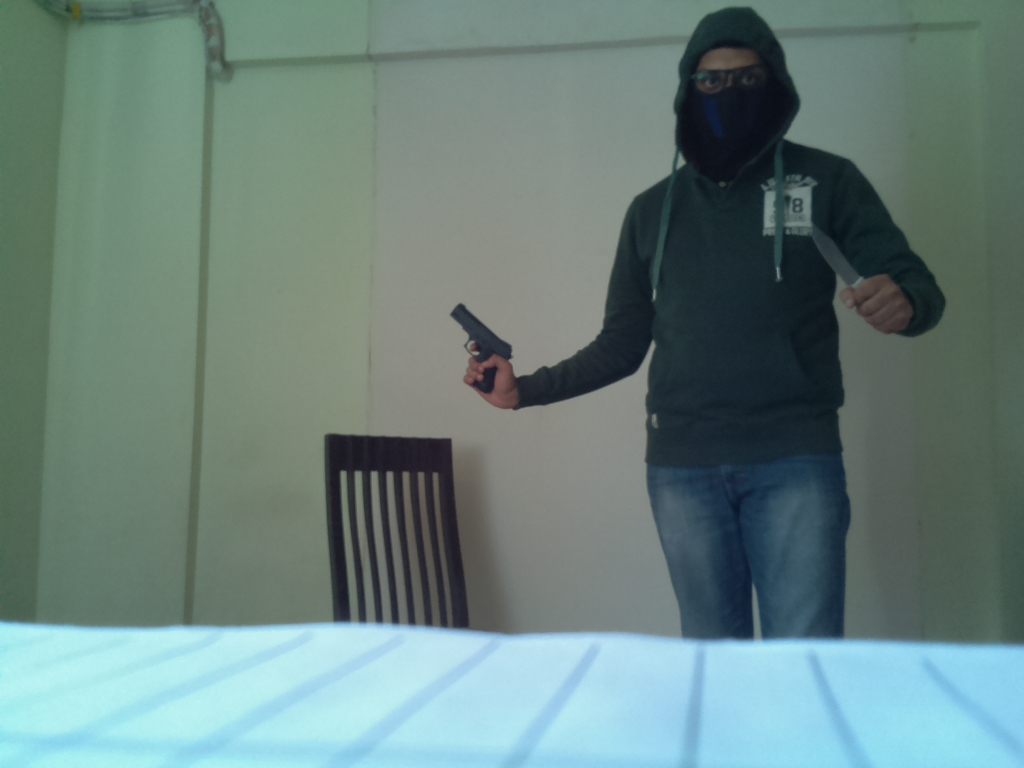gun: (446, 299, 511, 399)
knife: (804, 220, 887, 311)
